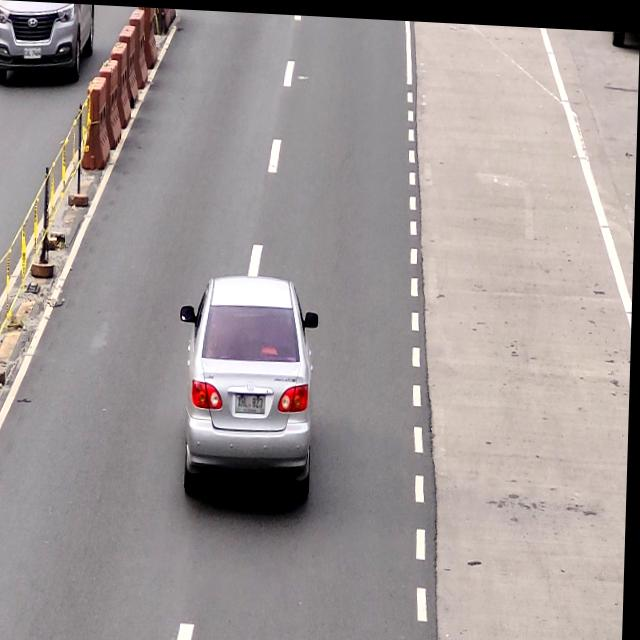Car: (185, 269, 315, 502)
License-Plate: (235, 388, 270, 417)
